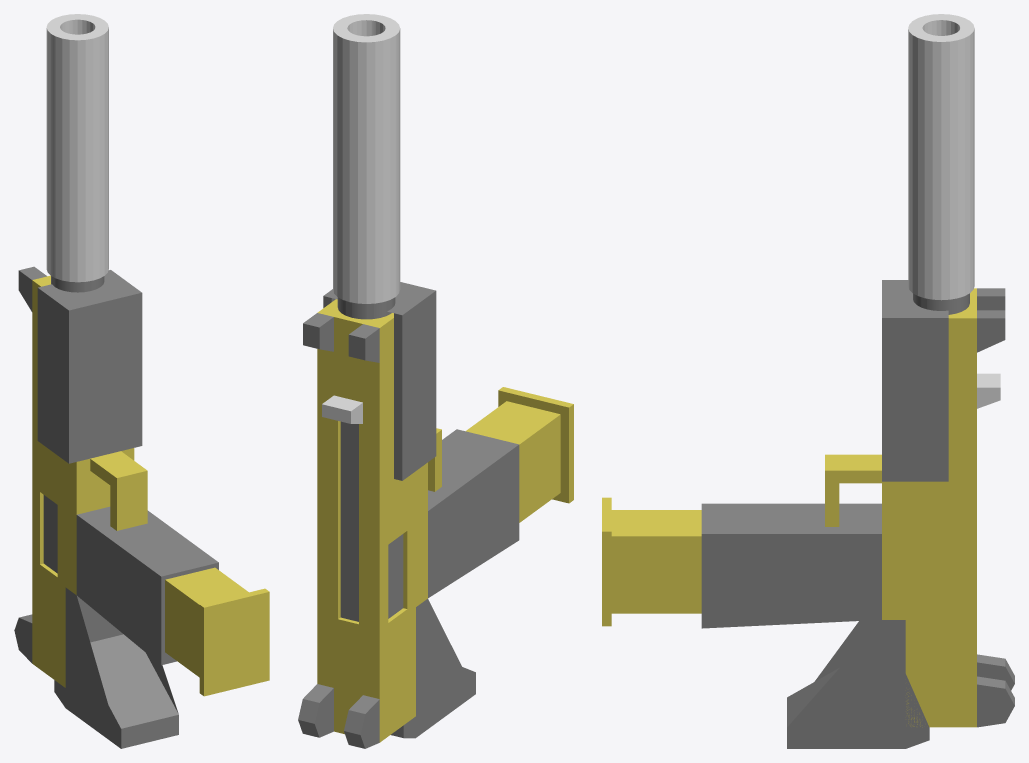
Rendered from uzigoldlongsilencer.fbx.
The picture shows the model from 3 angles, left to right: view 1: azimuth 30°, elevation 25°; view 2: azimuth 150°, elevation 25°; view 3: azimuth 270°, elevation 25°; orthographic projection. The views are drawn at different scales.
Parts seen in each view (by area): view 1: imagetostl_mesh43, imagetostl_mesh3, imagetostl_mesh266, imagetostl_mesh279, imagetostl_mesh243, imagetostl_mesh277, imagetostl_mesh73, imagetostl_mesh260, imagetostl_mesh74, imagetostl_mesh332, imagetostl_mesh333, imagetostl_mesh334 (+27 smaller); view 2: imagetostl_mesh3, imagetostl_mesh243, imagetostl_mesh277, imagetostl_mesh223, imagetostl_mesh260, imagetostl_mesh73, imagetostl_mesh70, imagetostl_mesh75, imagetostl_mesh76, imagetostl_mesh74, imagetostl_mesh69, imagetostl_mesh415 (+32 smaller); view 3: imagetostl_mesh52, imagetostl_mesh8, imagetostl_mesh270, imagetostl_mesh244, imagetostl_mesh252, imagetostl_mesh348, imagetostl_mesh261, imagetostl_mesh338, imagetostl_mesh356, imagetostl_mesh362, imagetostl_mesh6, imagetostl_mesh312 (+17 smaller).
Boxes of the visible parts, <box> form: imagetostl_mesh43: <box>69,293,142,463</box>; imagetostl_mesh3: <box>76,515,161,664</box>; imagetostl_mesh266: <box>204,592,269,696</box>; imagetostl_mesh279: <box>90,634,178,728</box>; imagetostl_mesh243: <box>37,288,68,463</box>; imagetostl_mesh277: <box>54,587,121,748</box>; imagetostl_mesh73: <box>32,578,65,687</box>; imagetostl_mesh260: <box>165,580,199,677</box>; imagetostl_mesh74: <box>32,320,57,622</box>; imagetostl_mesh332: <box>85,38,93,281</box>; imagetostl_mesh333: <box>77,40,85,282</box>; imagetostl_mesh334: <box>69,40,77,282</box>; imagetostl_mesh3: <box>428,445,519,598</box>; imagetostl_mesh243: <box>402,291,436,480</box>; imagetostl_mesh277: <box>403,599,475,738</box>; imagetostl_mesh223: <box>340,421,358,621</box>; imagetostl_mesh260: <box>519,414,560,522</box>; imagetostl_mesh73: <box>379,607,415,742</box>; imagetostl_mesh70: <box>317,353,333,687</box>; imagetostl_mesh75: <box>363,368,379,698</box>; imagetostl_mesh76: <box>363,360,379,693</box>; imagetostl_mesh74: <box>379,364,407,698</box>; imagetostl_mesh69: <box>317,349,333,685</box>; imagetostl_mesh415: <box>366,42,375,303</box>; imagetostl_mesh52: <box>882,318,976,727</box>; imagetostl_mesh8: <box>701,534,881,628</box>; imagetostl_mesh270: <box>787,620,929,748</box>; imagetostl_mesh244: <box>882,318,948,481</box>; imagetostl_mesh252: <box>611,536,701,613</box>; imagetostl_mesh348: <box>932,41,941,299</box>; imagetostl_mesh261: <box>611,510,701,536</box>; imagetostl_mesh338: <box>924,40,932,299</box>; imagetostl_mesh356: <box>941,41,949,300</box>; imagetostl_mesh362: <box>950,40,957,299</box>; imagetostl_mesh6: <box>701,504,824,533</box>; imagetostl_mesh312: <box>918,38,924,297</box>.
Size of the model in its own units: 1.14 by 9.85 by 5.22.
